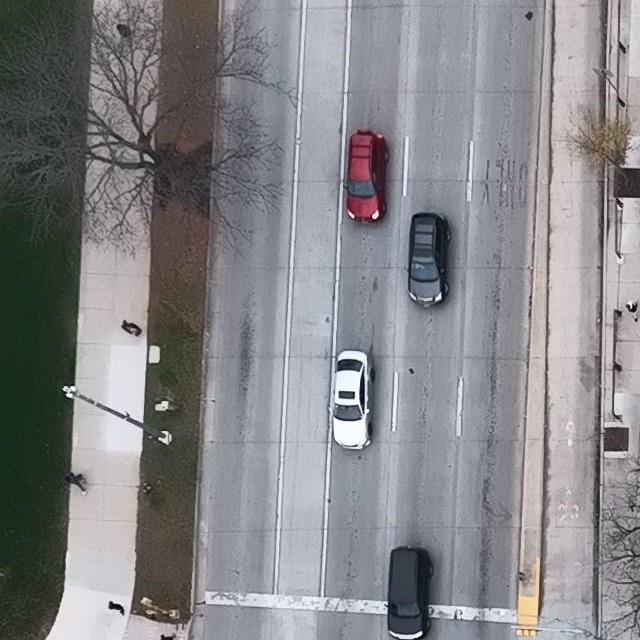car: (328, 349, 375, 452), (384, 545, 434, 640), (342, 128, 389, 224), (405, 211, 450, 307)
